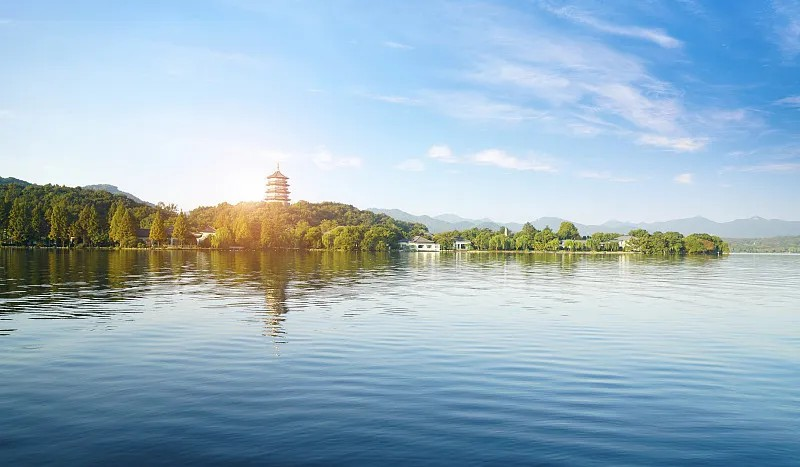Leifeng: (264, 162, 291, 205)
